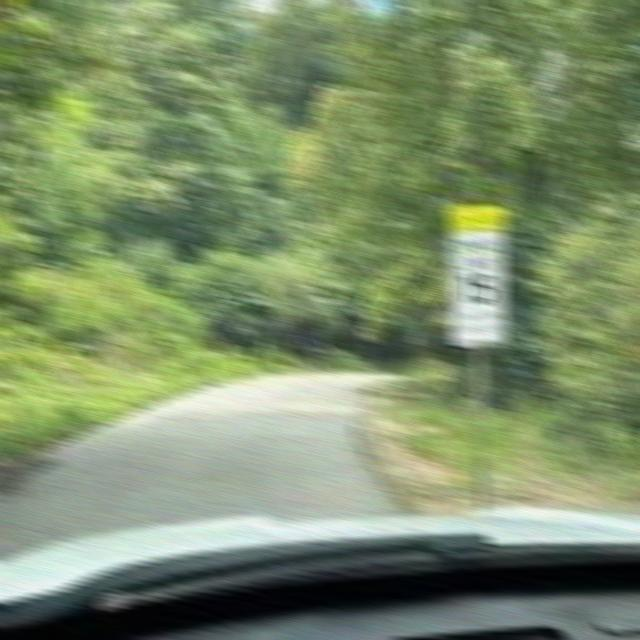speedLimit15: (446, 222, 504, 309)
